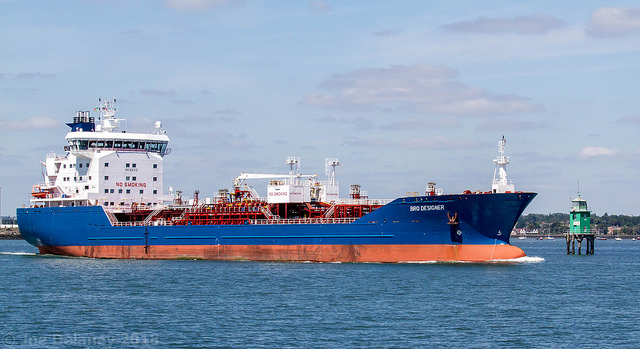tanker: (11, 91, 542, 260)
